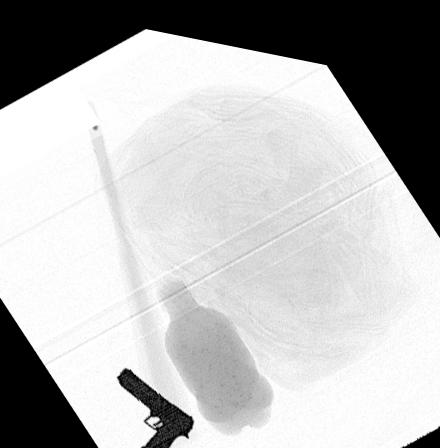Gun: (116, 362, 194, 448)
